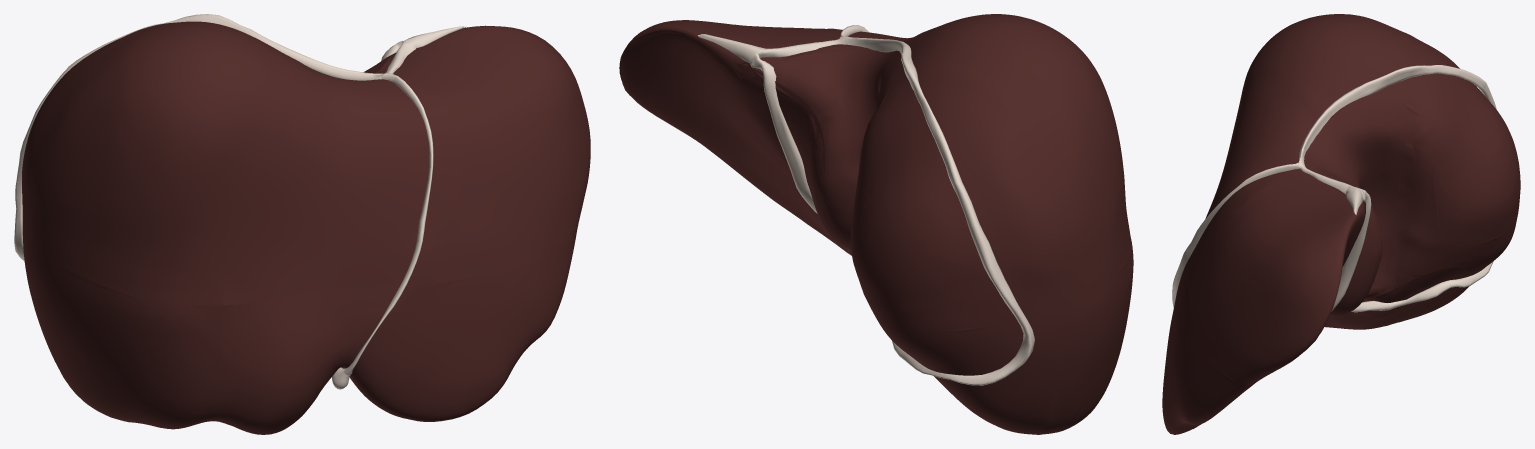
Rendered from 3d-vh-f-liver.glb.
The picture shows the model from 3 angles, left to right: view 1: azimuth 30°, elevation 25°; view 2: azimuth 150°, elevation 25°; view 3: azimuth 270°, elevation 25°; orthographic projection. The views are drawn at different scales.
Visible parts, largest first — view 1: VH_F_capsule_of_the_liver, VH_F_left_superomedial_segment1, VH_F_left_inferomedial_segment, VH_F_right_anterosuperior_segment, VH_F_right_anteroinferior_segment, VH_F_coronary_ligament_of_liver, VH_F_left_superomedial_segment, VH_F_falciform_ligament, VH_F_left_anterolateral_segment; view 2: VH_F_capsule_of_the_liver, VH_F_bare_area_of_liver, VH_F_left_superomedial_segment, VH_F_coronary_ligament_of_liver, VH_F_diaphragmatic_surface_of_liver, VH_F_caudate_lobe, VH_F_right_posterosuperior_segment, VH_F_ligamentum_venosum, VH_F_gastric_impression_of_liver, VH_F_left_anterolateral_segment, VH_F_right_posteroinferior_segment, VH_F_right_anterosuperior_segment (+3 smaller); view 3: VH_F_capsule_of_the_liver, VH_F_bare_area_of_liver, VH_F_caudate_lobe, VH_F_coronary_ligament_of_liver, VH_F_left_superomedial_segment1, VH_F_right_posterosuperior_segment, VH_F_diaphragmatic_surface_of_liver, VH_F_left_superomedial_segment, VH_F_falciform_ligament, VH_F_ligamentum_venosum, VH_F_right_posteroinferior_segment, VH_F_suprarenal_impression_of_liver (+2 smaller).
Boxes of the visible parts, bbox=[...] form: VH_F_capsule_of_the_liver: bbox=[22, 21, 590, 434]; VH_F_left_superomedial_segment1: bbox=[222, 55, 433, 305]; VH_F_left_inferomedial_segment: bbox=[208, 284, 398, 433]; VH_F_right_anterosuperior_segment: bbox=[38, 23, 278, 305]; VH_F_right_anteroinferior_segment: bbox=[39, 264, 223, 426]; VH_F_coronary_ligament_of_liver: bbox=[14, 14, 413, 261]; VH_F_left_superomedial_segment: bbox=[380, 29, 581, 284]; VH_F_falciform_ligament: bbox=[344, 73, 433, 375]; VH_F_left_anterolateral_segment: bbox=[342, 226, 577, 419]; VH_F_capsule_of_the_liver: bbox=[619, 14, 1133, 434]; VH_F_bare_area_of_liver: bbox=[749, 47, 1023, 375]; VH_F_left_superomedial_segment: bbox=[622, 22, 840, 178]; VH_F_coronary_ligament_of_liver: bbox=[767, 36, 1034, 385]; VH_F_diaphragmatic_surface_of_liver: bbox=[619, 30, 996, 425]; VH_F_caudate_lobe: bbox=[778, 47, 899, 250]; VH_F_right_posterosuperior_segment: bbox=[851, 61, 1101, 331]; VH_F_ligamentum_venosum: bbox=[751, 53, 817, 213]; VH_F_gastric_impression_of_liver: bbox=[668, 74, 851, 255]; VH_F_left_anterolateral_segment: bbox=[716, 151, 829, 234]; VH_F_right_posteroinferior_segment: bbox=[866, 299, 1101, 434]; VH_F_right_anterosuperior_segment: bbox=[897, 30, 1132, 282]; VH_F_capsule_of_the_liver: bbox=[1162, 14, 1472, 434]; VH_F_bare_area_of_liver: bbox=[1306, 74, 1520, 298]; VH_F_caudate_lobe: bbox=[1305, 98, 1439, 315]; VH_F_coronary_ligament_of_liver: bbox=[1298, 65, 1496, 312]; VH_F_left_superomedial_segment1: bbox=[1199, 64, 1323, 240]; VH_F_right_posterosuperior_segment: bbox=[1393, 31, 1518, 244]; VH_F_diaphragmatic_surface_of_liver: bbox=[1170, 201, 1494, 433]; VH_F_left_superomedial_segment: bbox=[1176, 172, 1365, 381]; VH_F_falciform_ligament: bbox=[1172, 162, 1298, 307]; VH_F_ligamentum_venosum: bbox=[1331, 189, 1371, 311]; VH_F_right_posteroinferior_segment: bbox=[1386, 226, 1513, 325]; VH_F_suprarenal_impression_of_liver: bbox=[1399, 267, 1471, 289].
Size of the model in its own units: 0.2471 by 0.17 by 0.1663.
